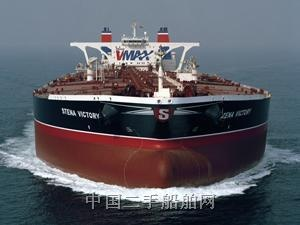Cargoship: (28, 17, 271, 192)
